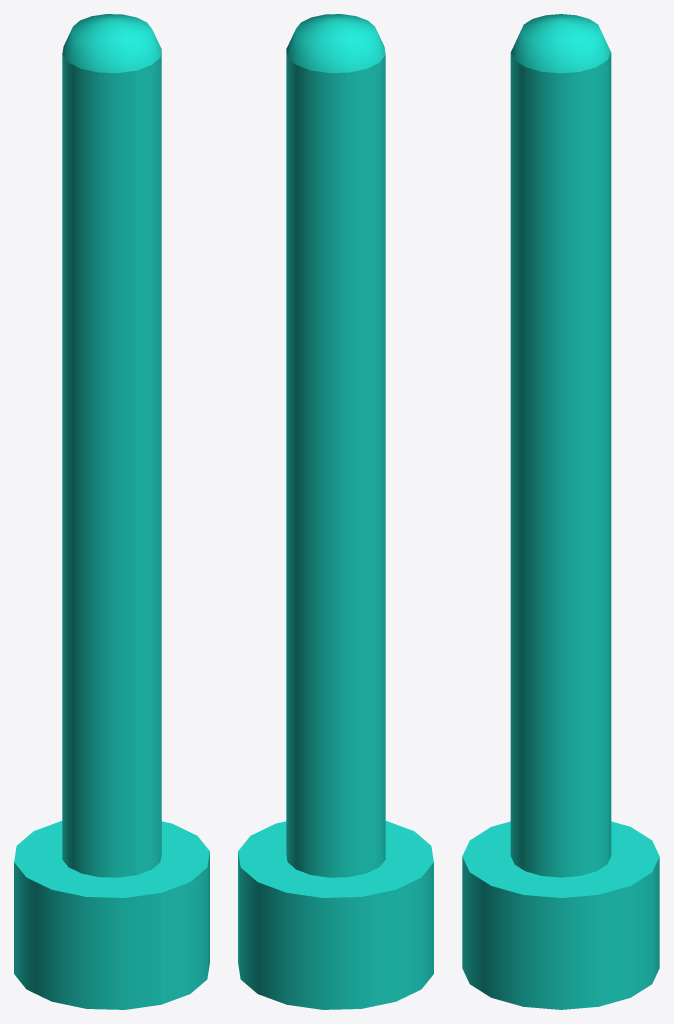
File: Cable_Antenna2.fbx
3 views of the same model, side by side, from view 1: azimuth 30°, elevation 25°; view 2: azimuth 150°, elevation 25°; view 3: azimuth 270°, elevation 25° (orthographic).
Visible parts, largest first — view 1: Cable_Antenna2; view 2: Cable_Antenna2; view 3: Cable_Antenna2.
Part boxes in pixels (box(x1,y1,x2,y2)): Cable_Antenna2: box(14, 14, 209, 1009); Cable_Antenna2: box(238, 14, 433, 1009); Cable_Antenna2: box(462, 14, 659, 1009).
Size of the model in its own units: 28.53 by 151 by 28.53.
